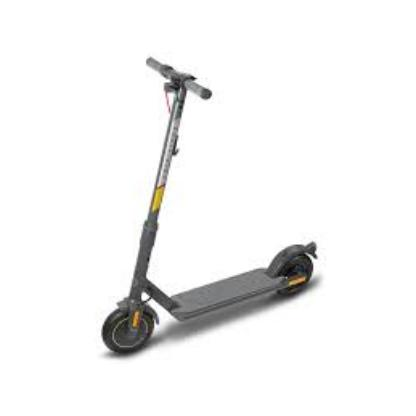bike: (100, 58, 318, 356)
